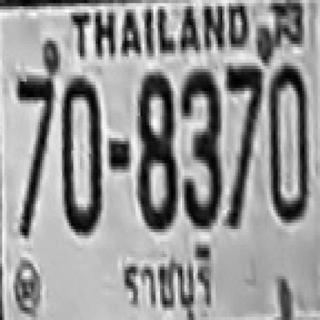N00: (60, 75, 100, 232), (267, 63, 307, 220)
N03: (180, 66, 220, 226)
N07: (16, 74, 53, 231), (225, 63, 260, 213), (225, 63, 260, 166)
N08: (136, 71, 176, 227)
P52: (116, 241, 220, 320)
